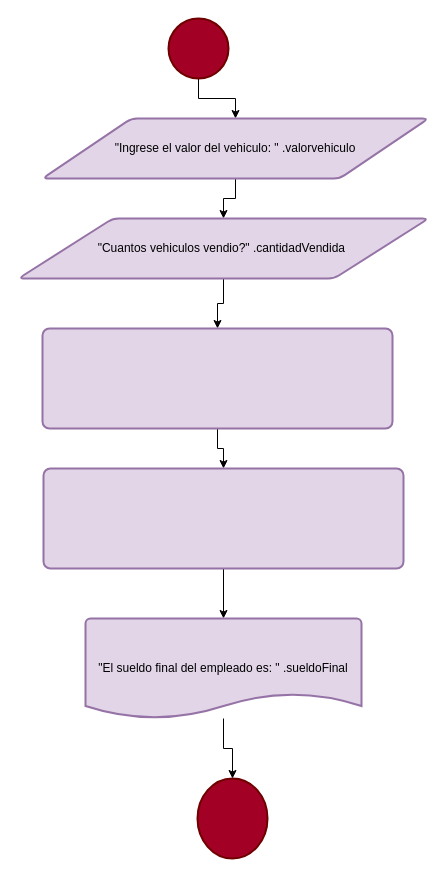
Some shapes in this 446 by 876 pixel diagram are drawn without their labels. Each missing label, with the box of its shape:
comisionVenta = ( valorVehiculo%10 ) * cantidadVendida: (41, 327, 393, 429)
sueldoFinal = (vehiculoVendido * cantidadVendida) + comisionVenta + sueldo: (42, 467, 404, 569)
